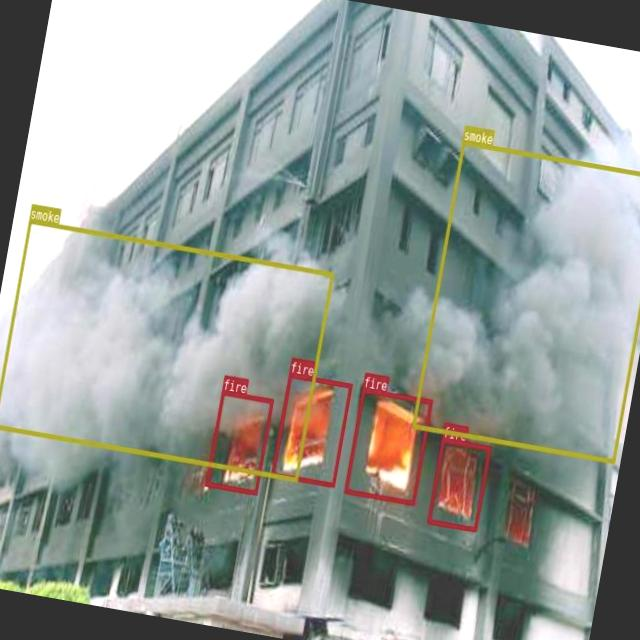fire: (343, 386, 431, 504), (270, 371, 352, 486), (205, 388, 272, 494), (426, 436, 491, 530)
smoke: (0, 217, 333, 480), (411, 139, 640, 462)
